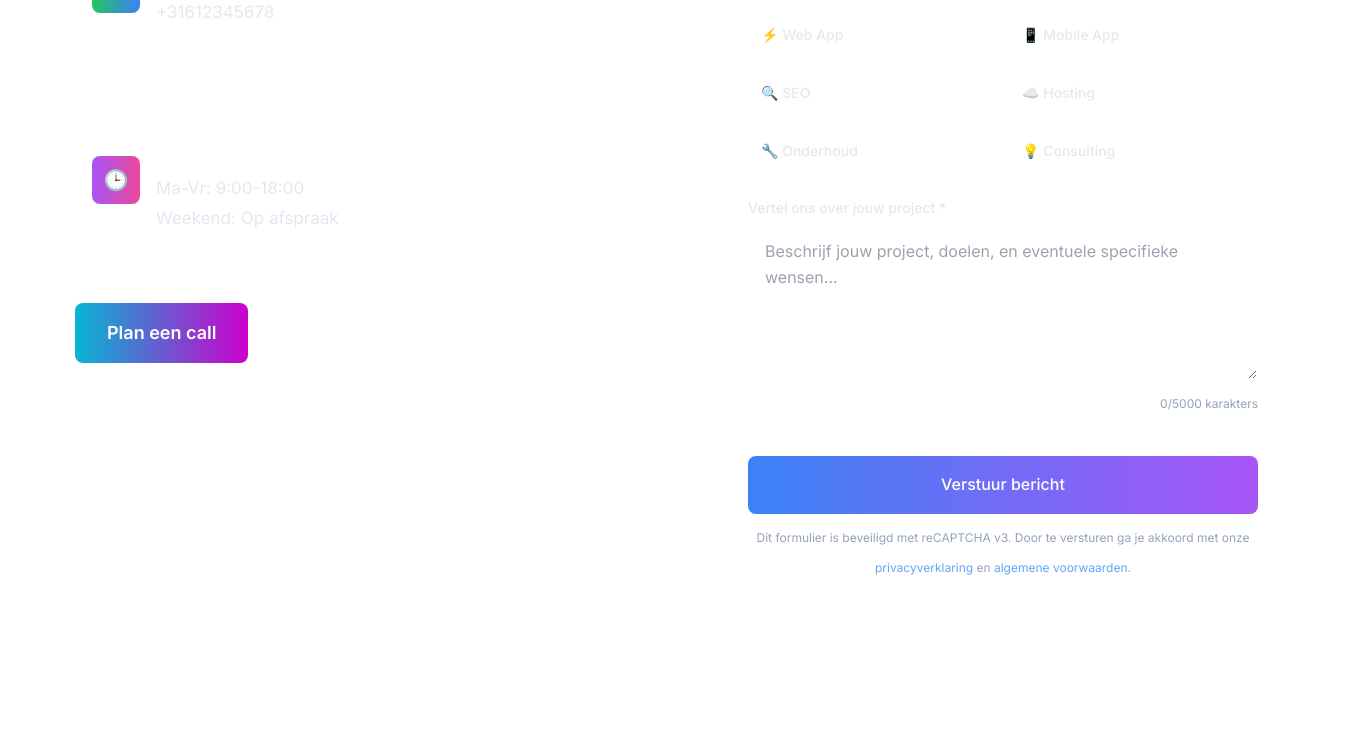
Scenario: SecureContactForm › should validate required fields
The width and height of the screenshot is (1366, 751).
(page scrolled)
// Try to submit empty form
Click the button "Verstuur bericht" at (1003, 485), box [748,456,1258,514]
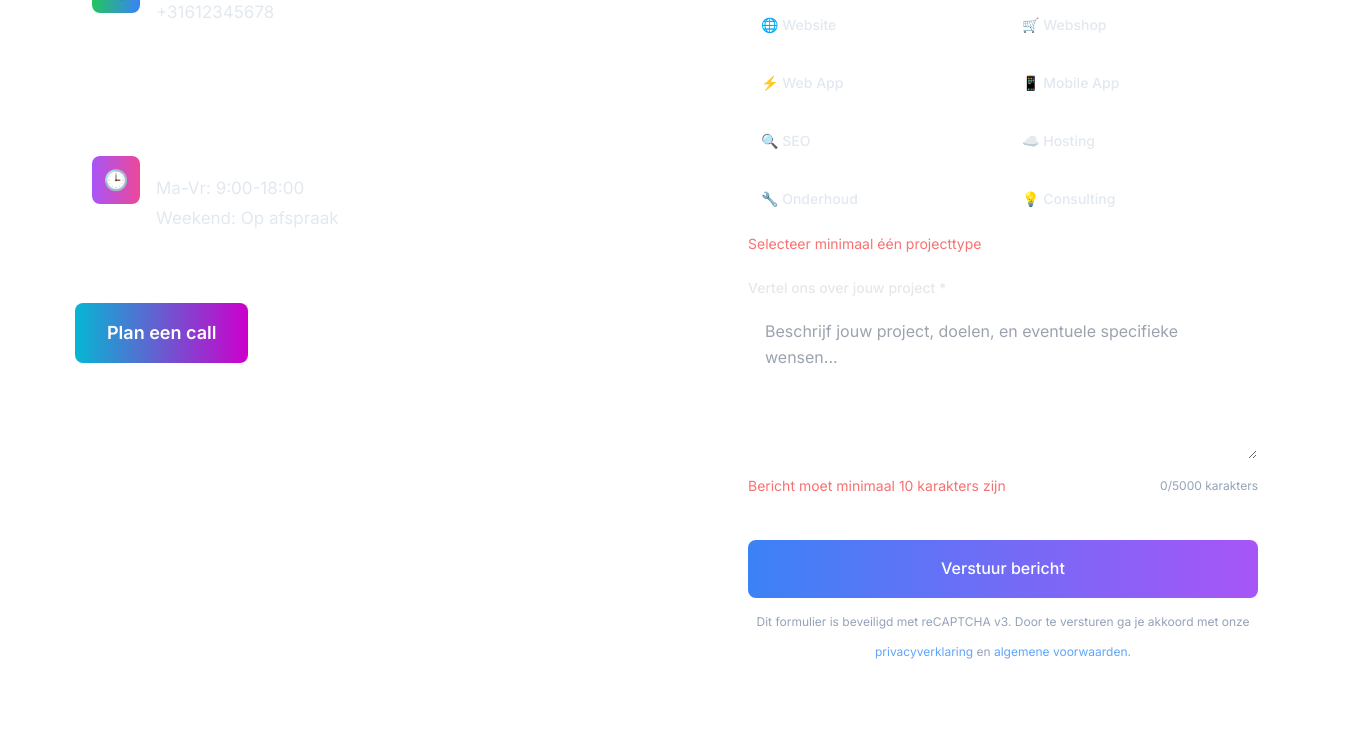
Check: the text "Selecteer minimaal één projecttype" is shown, box [748,235,981,252]
Check: the text "Bericht moet minimaal 10 karakters zijn" is shown, box [748,476,1006,496]
